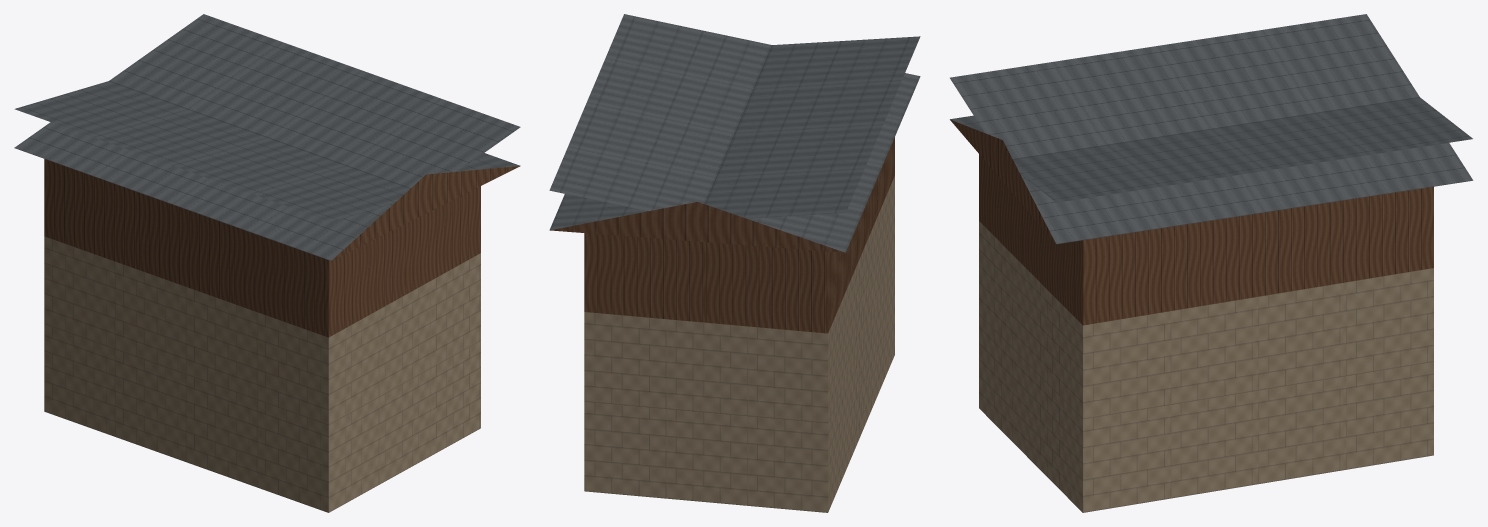
The model's file is bld_c40_32_290.gltf.
The picture shows the model from 3 angles, left to right: view 1: azimuth 30°, elevation 25°; view 2: azimuth 150°, elevation 25°; view 3: azimuth 270°, elevation 25°; orthographic projection. The views are drawn at different scales.
Parts seen in each view (by area): view 1: bld_c40_32_290; view 2: bld_c40_32_290; view 3: bld_c40_32_290.
Part boxes in pixels (x1,y1,x2,y2): bld_c40_32_290: (14,14,520,512); bld_c40_32_290: (549,14,920,512); bld_c40_32_290: (950,14,1473,512).
Bounding box in the file's own units: 9.73 × 7.8 × 11.41.
4 materials, 4 textured.
